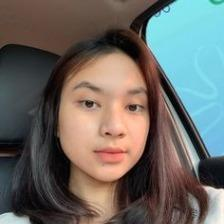Non hijab: (4, 21, 198, 224)
